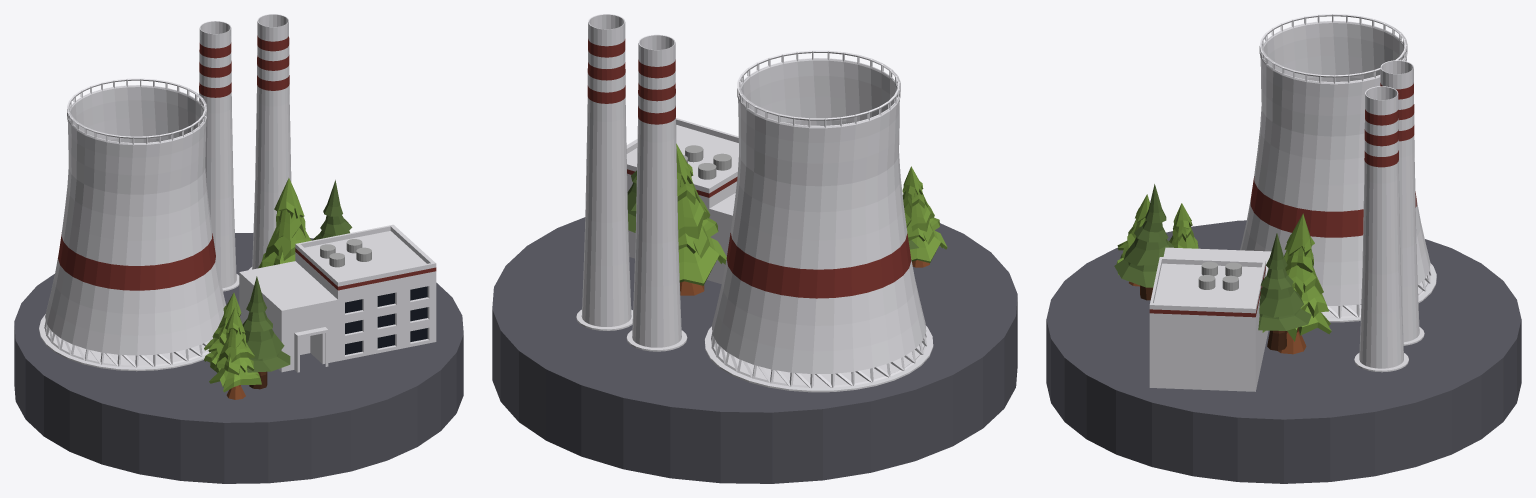
The model's file is thermal_grande.glb.
3 renders of one model, left to right at view 1: azimuth 30°, elevation 25°; view 2: azimuth 150°, elevation 25°; view 3: azimuth 270°, elevation 25°, orthographic. The views are drawn at different scales.
Visible parts, largest first — view 1: Cylinder, Cube.002, Cube, Cylinder.019, Tree.017, Tree.018, Tree.016, Tree.015, Tree.019; view 2: Cylinder, Cube.002, Cylinder.019, Cube, Tree.016, Tree.018; view 3: Cylinder, Cube.002, Cylinder.019, Cube, Tree.016, Tree.015, Tree.017, Tree.019, Tree.018.
Boxes of the visible parts, x1,y1,x2,y2 form: Cylinder: [14, 233, 463, 483]; Cube.002: [39, 78, 225, 371]; Cube: [239, 224, 436, 372]; Cylinder.019: [199, 14, 291, 291]; Tree.017: [242, 276, 290, 389]; Tree.018: [209, 307, 261, 399]; Tree.016: [258, 178, 311, 268]; Tree.015: [312, 180, 352, 240]; Tree.019: [204, 292, 241, 372]; Cylinder: [492, 217, 1017, 483]; Cube.002: [704, 50, 933, 392]; Cylinder.019: [576, 14, 687, 351]; Cube: [626, 118, 738, 283]; Tree.016: [676, 143, 726, 295]; Tree.018: [902, 166, 947, 267]; Cylinder: [1046, 220, 1521, 483]; Cube.002: [1240, 14, 1436, 322]; Cylinder.019: [1354, 60, 1424, 372]; Cube: [1149, 247, 1271, 391]; Tree.016: [1262, 213, 1331, 354]; Tree.015: [1258, 233, 1311, 350]; Tree.017: [1114, 184, 1174, 300]; Tree.019: [1169, 203, 1198, 248]; Tree.018: [1116, 194, 1149, 286].
Size of the model in its own units: 3.33 by 2.57 by 3.33.
